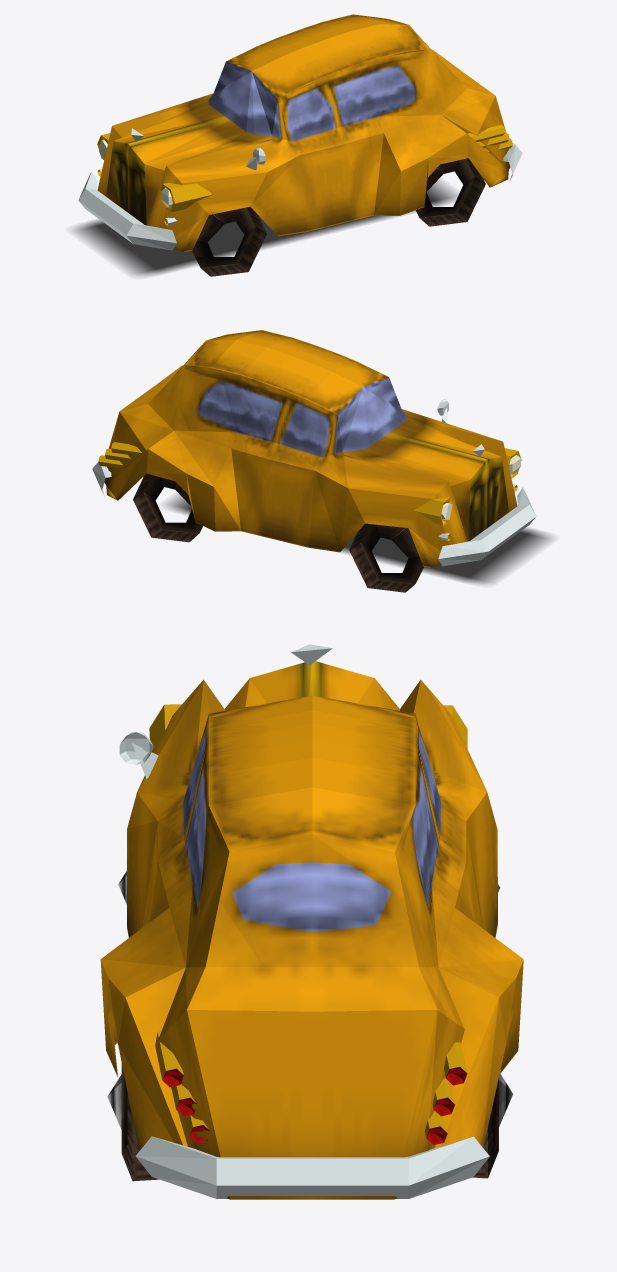
Rendered from Normauto_1_new [Copy 3]_2839.glb.
The picture shows the model from 3 angles, top to bottom: view 1: azimuth 30°, elevation 25°; view 2: azimuth 150°, elevation 25°; view 3: azimuth 270°, elevation 25°; orthographic projection. The views are drawn at different scales.
Visible parts, largest first — view 1: polySurfaceShape9, polySurfaceShape12, pPlaneShape7, vrlShape, pCylinderShape3, hrlShape, pConeShape1, polySurfaceShape10; view 2: polySurfaceShape9, polySurfaceShape11, pPlaneShape7, vrrShape, pCylinderShape3, hrrShape, pConeShape2, polySurfaceShape10; view 3: polySurfaceShape9, polySurfaceShape10, pCylinderShape4, polySurfaceShape11, polySurfaceShape12, hrlShape, hrrShape, pConeShape11.
Boxes of the visible parts, left/top/right/bottom form: polySurfaceShape9: left=97, top=14, right=510, bottom=251; polySurfaceShape12: left=278, top=76, right=347, bottom=231; pPlaneShape7: left=73, top=180, right=457, bottom=276; vrlShape: left=192, top=206, right=266, bottom=276; pCylinderShape3: left=78, top=172, right=176, bottom=250; hrlShape: left=416, top=158, right=485, bottom=226; pConeShape1: left=160, top=183, right=211, bottom=212; polySurfaceShape10: left=432, top=50, right=494, bottom=95; polySurfaceShape9: left=104, top=330, right=517, bottom=567; polySurfaceShape11: left=267, top=391, right=337, bottom=547; pPlaneShape7: left=165, top=494, right=552, bottom=584; vrrShape: left=349, top=523, right=423, bottom=592; pCylinderShape3: left=438, top=487, right=536, bottom=566; hrrShape: left=133, top=473, right=202, bottom=542; pConeShape2: left=413, top=497, right=450, bottom=525; polySurfaceShape10: left=120, top=365, right=182, bottom=410; polySurfaceShape9: left=100, top=661, right=523, bottom=1199; polySurfaceShape10: left=187, top=967, right=437, bottom=1199; pCylinderShape4: left=135, top=1136, right=489, bottom=1198; polySurfaceShape11: left=415, top=714, right=484, bottom=929; polySurfaceShape12: left=140, top=715, right=208, bottom=929; hrlShape: left=107, top=1063, right=159, bottom=1181; hrrShape: left=472, top=1073, right=512, bottom=1178; pConeShape11: left=155, top=1030, right=183, bottom=1087.
Size of the model in its own units: 0.7111 by 0.2585 by 0.3333.
Materials: 38 (13 with a texture image).
